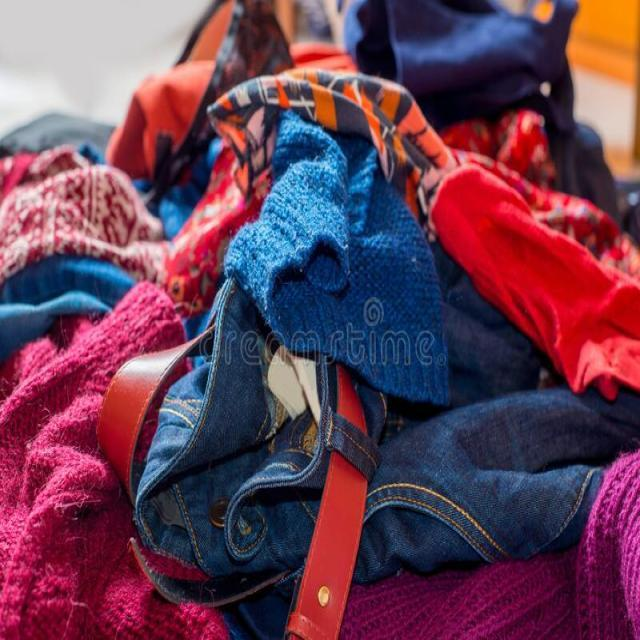clothes: (193, 148, 457, 568)
